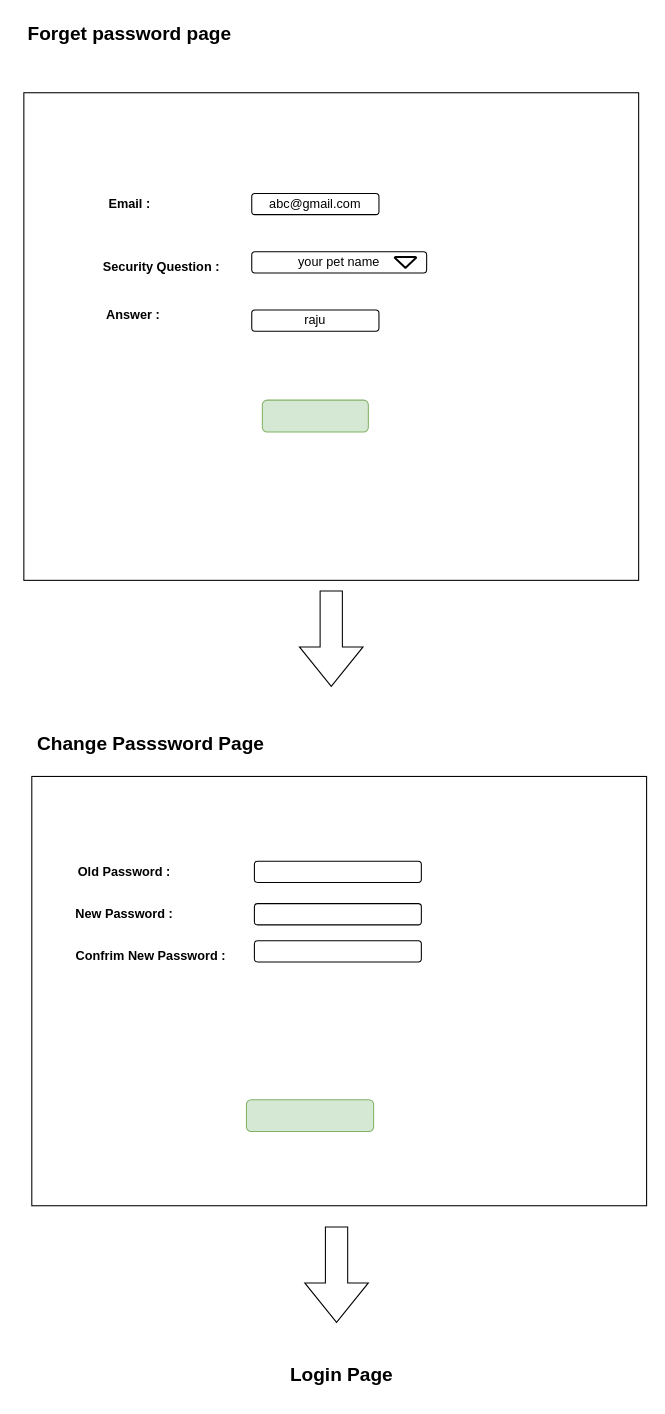
Some shapes in this 665 by 1414 pixel diagram are drawn without their labels. Each missing label, with the centre of its shape:
"Change Password" goes at point (309, 1115).
"Submit" goes at point (314, 415).
